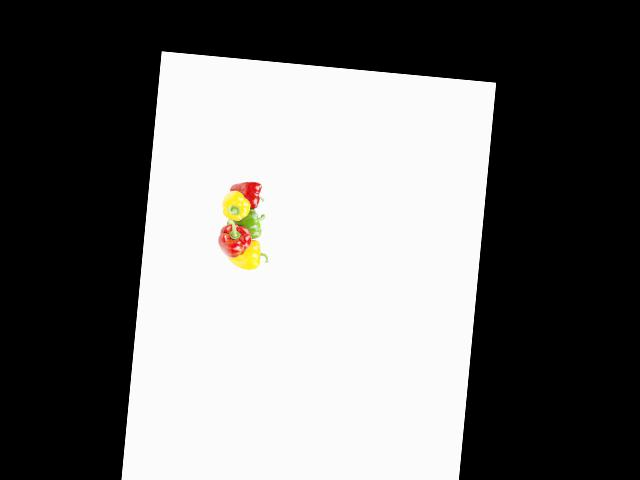bell_pepper: (232, 178, 267, 209)
